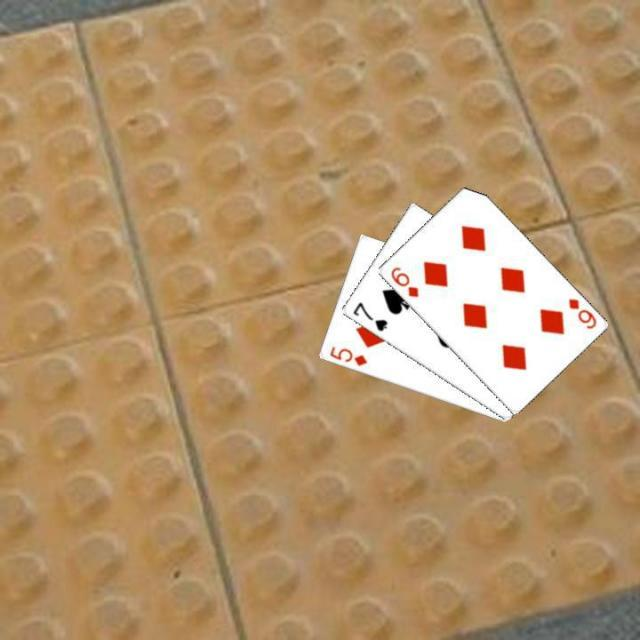5D: (326, 342, 368, 368)
6D: (386, 263, 421, 299), (564, 294, 598, 331)
7S: (348, 298, 389, 334)
